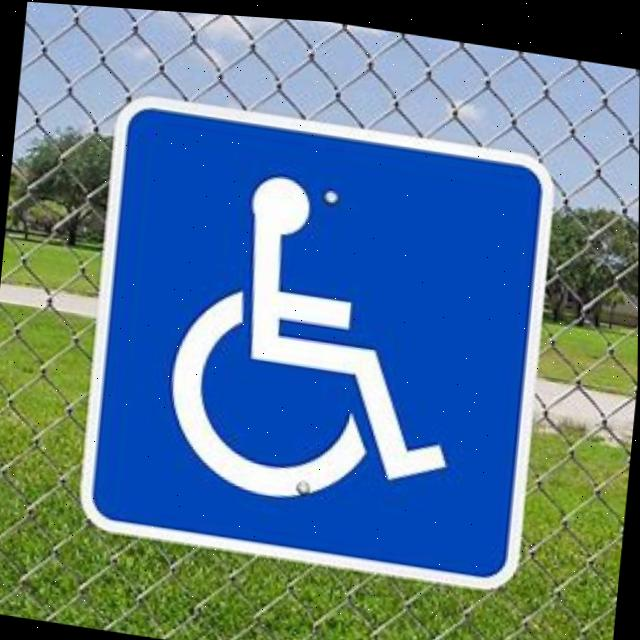symbol_of_access: (160, 158, 477, 523)
